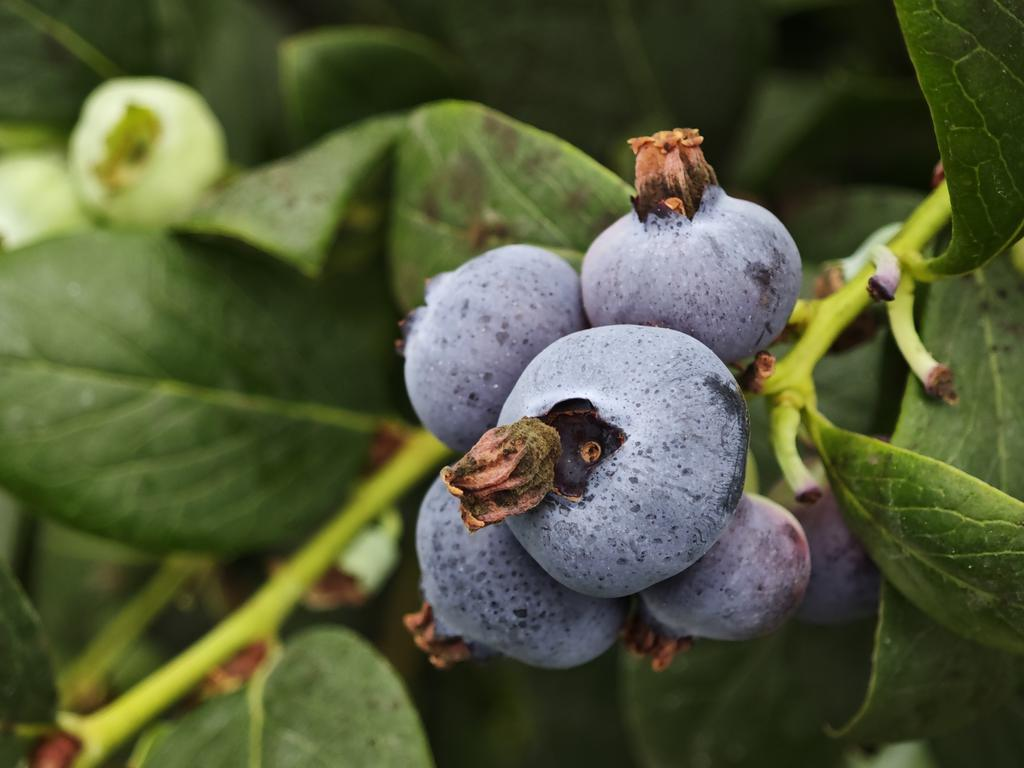RipeBlueBerry: (483, 319, 754, 602), (578, 170, 804, 359)
